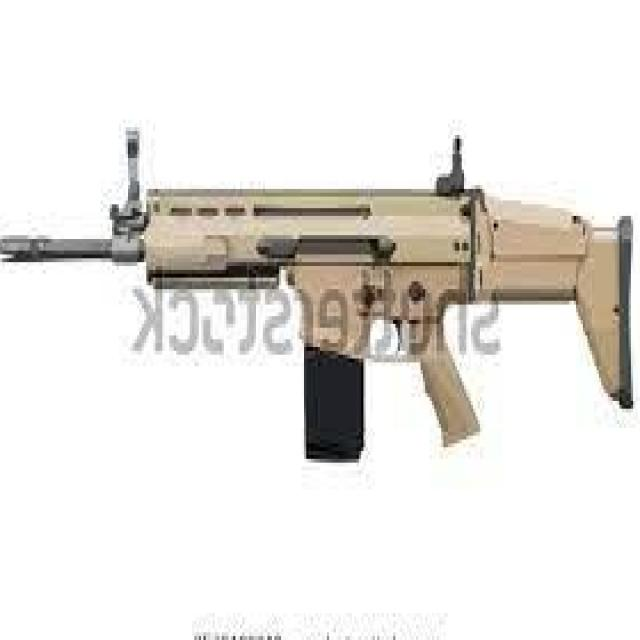Gun: (73, 146, 640, 478)
